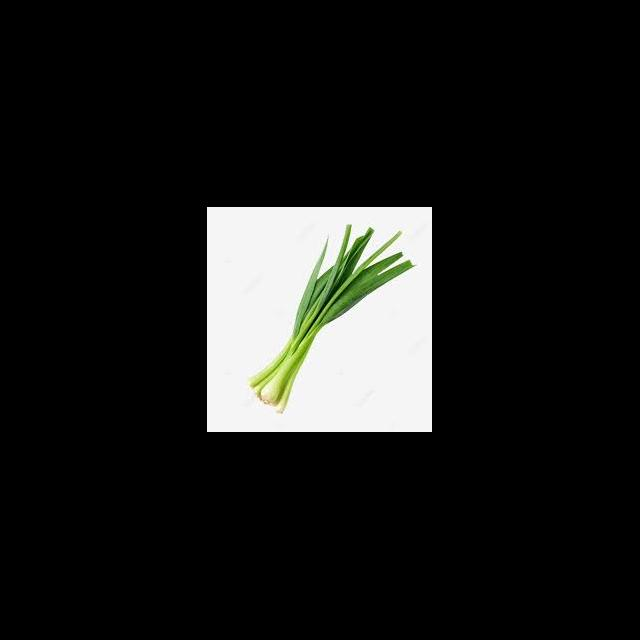green_onion: (252, 216, 413, 395)
